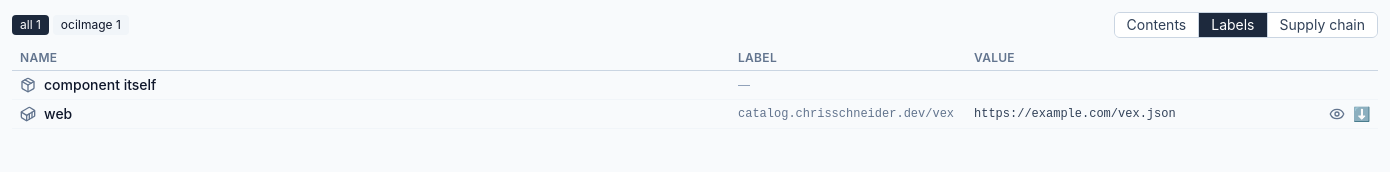
labels view: VEX label without digest links the original URL
The image size is (1390, 172).
Click the button named "View catalog.chrisschneider.dev/vex" at x=1337, y=114, box left=1329, top=106, right=1345, bottom=122
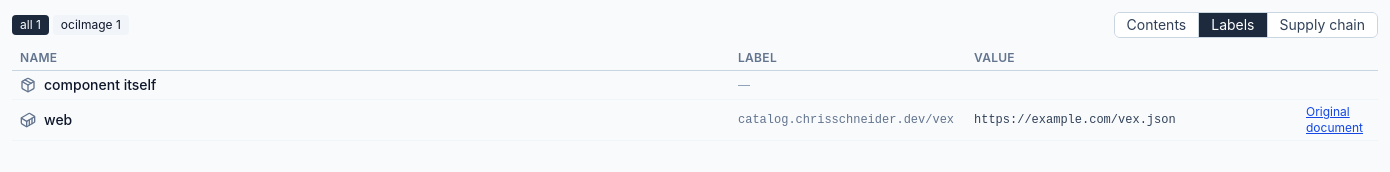
Result: the button "⬇" is gone
